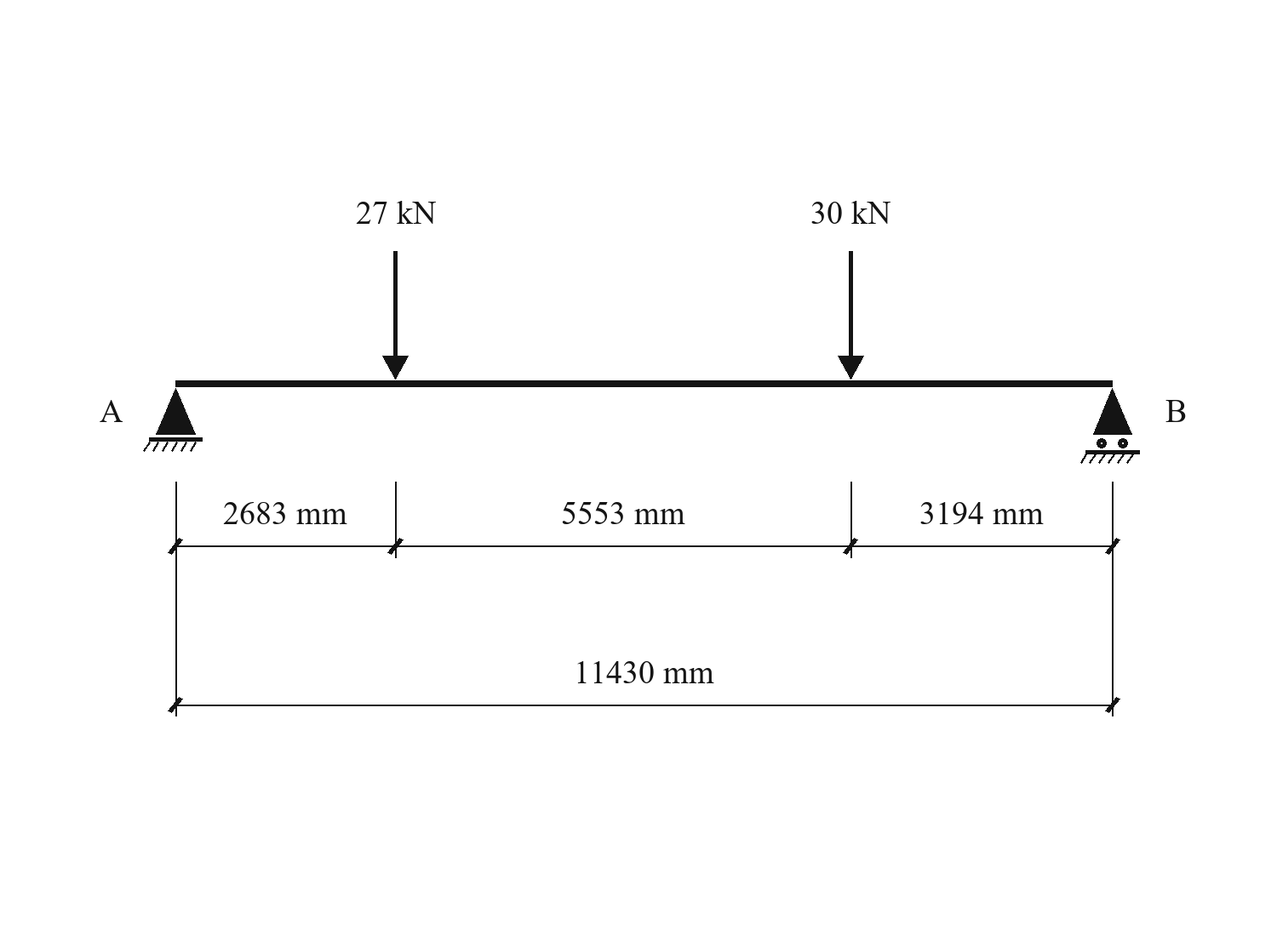pin_support: (143, 388, 203, 452)
point_load: (382, 251, 409, 380), (838, 251, 864, 380)
roller_support: (1080, 388, 1140, 464)
